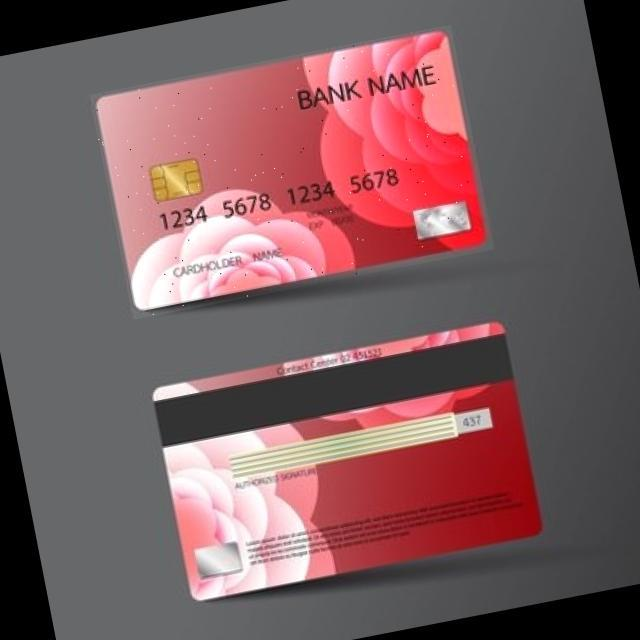payment_card: (94, 28, 492, 313), (151, 319, 543, 601)
